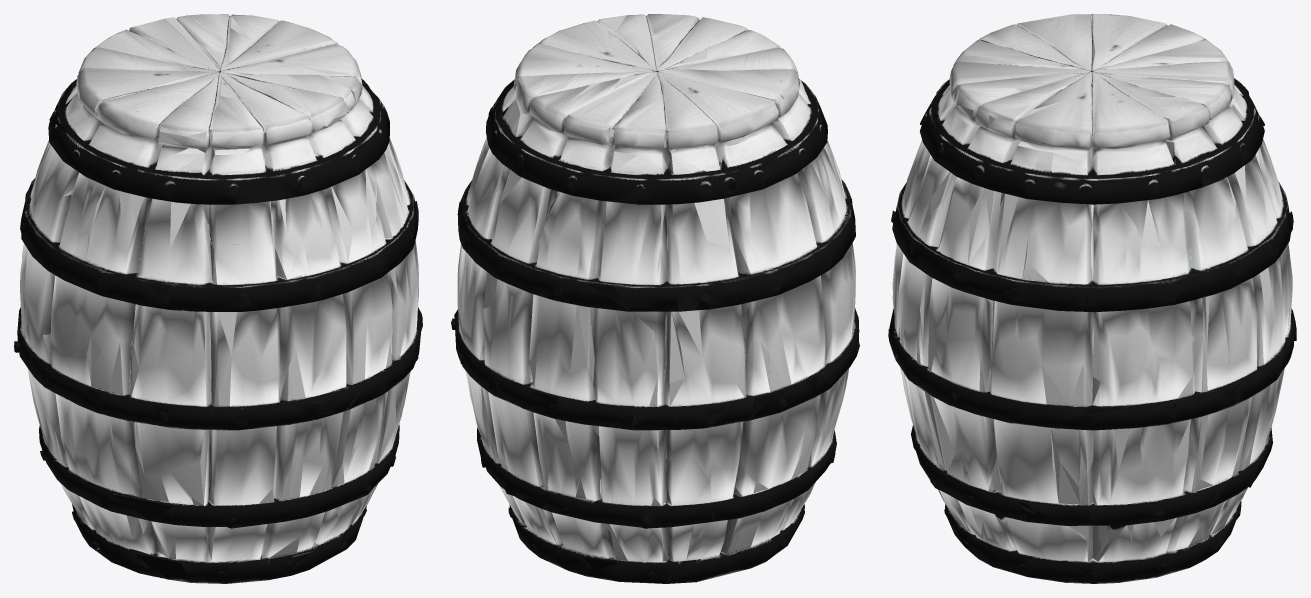
Rendered from Tonneau.fbx.
The picture shows the model from 3 angles, left to right: view 1: azimuth 30°, elevation 25°; view 2: azimuth 150°, elevation 25°; view 3: azimuth 270°, elevation 25°; orthographic projection.
Visible parts, largest first — view 1: output_unwrapped; view 2: output_unwrapped; view 3: output_unwrapped.
Boxes of the visible parts, bbox=[...] form: output_unwrapped: bbox=[14, 14, 422, 583]; output_unwrapped: bbox=[451, 14, 859, 583]; output_unwrapped: bbox=[888, 14, 1296, 583].
Bounding box in the file's own units: 155 × 190 × 155.
1 material, 1 textured.
